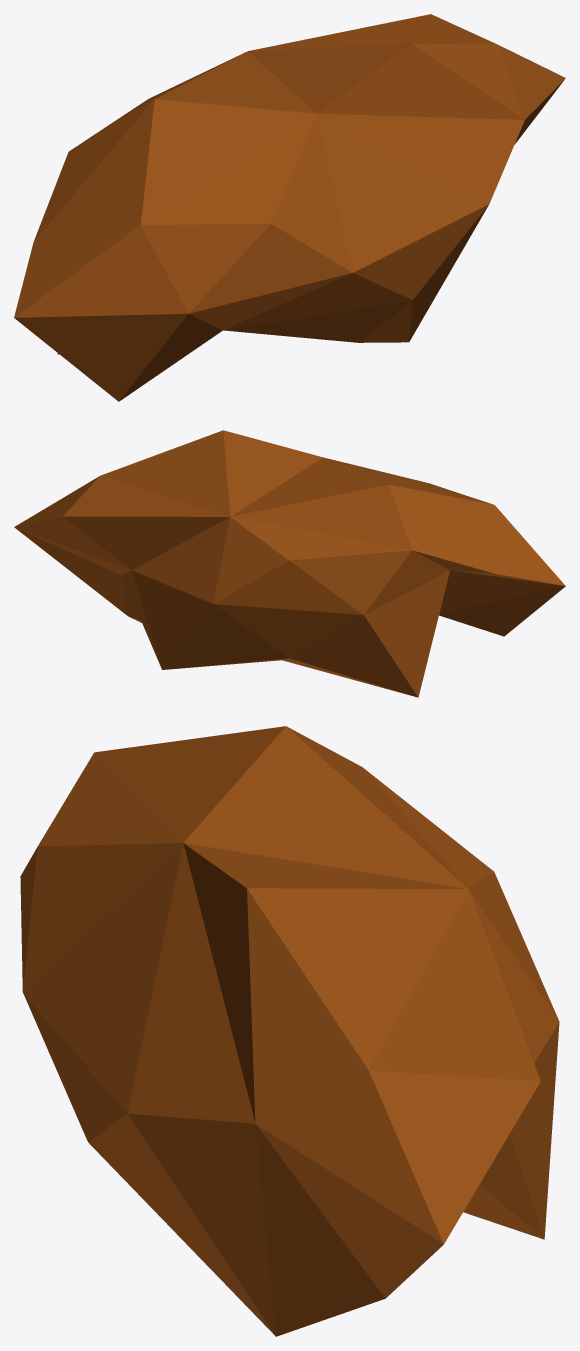
The model's file is meteorito.fbx.
The picture shows the model from 3 angles, top to bottom: view 1: azimuth 30°, elevation 25°; view 2: azimuth 150°, elevation 25°; view 3: azimuth 270°, elevation 25°; orthographic projection. The views are drawn at different scales.
Visible parts, largest first — view 1: Cube; view 2: Cube; view 3: Cube.
Part boxes in pixels (box(x1,y1,x2,y2)): Cube: box(14, 14, 565, 401); Cube: box(14, 430, 565, 697); Cube: box(20, 726, 559, 1336).
Size of the model in its own units: 452 by 202 by 222.
